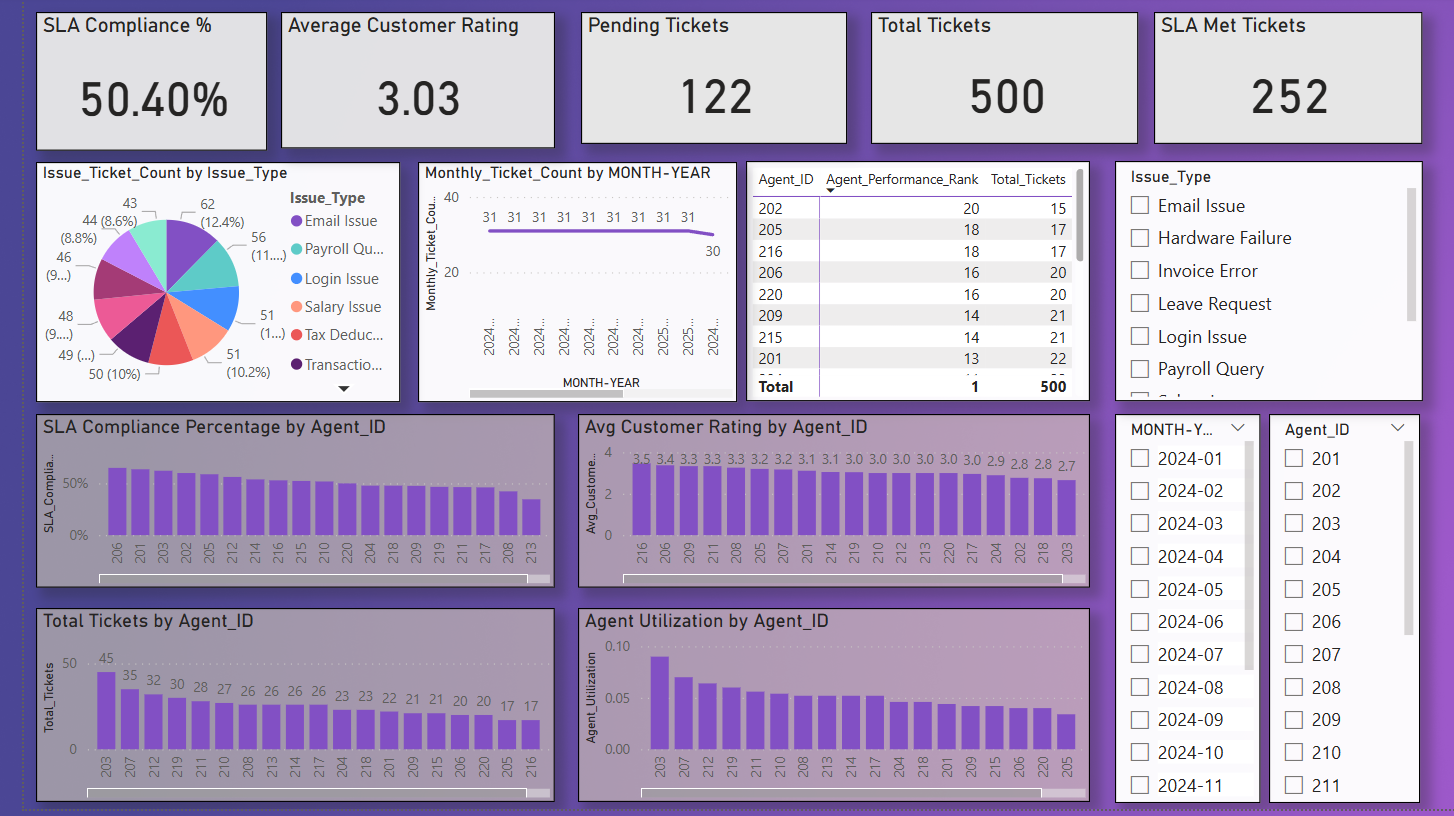

What the dashboard file says about the page in this screenshot:
{"tool":"powerbi","page":{"name":"Page 1","canvas":[1280,720],"ordinal":0},"visuals":[{"type":"card","title":"Total Tickets","fields":{"Values":["ALL MEASURES.Total_Tickets"]},"box":[750.7,13.4,237.4,116.9],"z":0},{"type":"card","title":"SLA Met Tickets","fields":{"Values":["ALL MEASURES.SLA_Met_Tickets"]},"box":[1002.4,13.4,238.3,116.9],"z":1000},{"type":"card","title":"SLA Compliance %","fields":{"Values":["ALL MEASURES.SLA_Compliance_Percentage"]},"box":[10.7,13.4,205.3,123.2],"z":2000},{"type":"pivotTable","fields":{"Rows":["Sheet1.Agent_ID"],"Values":["ALL MEASURES.Agent_Performance_Rank","ALL MEASURES.Total_Tickets"]},"box":[640,145.5,305.3,213.3],"z":3000},{"type":"lineChart","fields":{"Category":["Sheet1.MONTH-YEAR"],"Y":["ALL MEASURES.Monthly_Ticket_Count"]},"box":[349,146.4,283,213.3],"z":4000},{"type":"pieChart","fields":{"Y":["ALL MEASURES.Issue_Ticket_Count"],"Category":["Sheet1.Issue_Type"]},"box":[10.7,146.4,323.1,213.3],"z":5000},{"type":"card","title":"Average Customer Rating","fields":{"Values":["ALL MEASURES.Avg_Customer_Rating"]},"box":[227.6,13.4,242.8,120.5],"z":6000},{"type":"columnChart","title":"Avg Customer Rating by Agent_ID","fields":{"Category":["Sheet1.Agent_ID"],"Y":["ALL MEASURES.Avg_Customer_Rating"]},"box":[490.9,369.5,454.3,154.4],"z":7000},{"type":"columnChart","title":"Total Tickets by Agent_ID","fields":{"Category":["Sheet1.Agent_ID"],"Y":["ALL MEASURES.Total_Tickets"]},"box":[10.7,541.8,459.7,172.3],"z":8000},{"type":"columnChart","title":"SLA Compliance Percentage by Agent_ID","fields":{"Y":["ALL MEASURES.SLA_Compliance_Percentage"],"Category":["Sheet1.Agent_ID"]},"box":[10.7,369.5,459.7,154.4],"z":9000},{"type":"card","title":"Pending Tickets","fields":{"Values":["ALL MEASURES.Pending_Tickets"]},"box":[493.6,13.4,235.6,116.9],"z":10000},{"type":"columnChart","title":"Agent Utilization by Agent_ID","fields":{"Y":["ALL MEASURES.Agent_Utilization"],"Category":["Sheet1.Agent_ID"]},"box":[490.9,541.8,454.3,172.3],"z":11000},{"type":"slicer","fields":{"Values":["Sheet1.MONTH-YEAR"]},"box":[967.6,369.5,128.5,344.5],"z":12000},{"type":"slicer","fields":{"Values":["Sheet1.Agent_ID"]},"box":[1104.2,369.5,133.9,344.5],"z":13000},{"type":"slicer","fields":{"Values":["Sheet1.Issue_Type"]},"box":[967.6,145.5,273.1,213.3],"z":14000}]}

Visuals, with their boxes in screenshot pixels (x1, y1, x2, y2), scaled from the page's 1280x720 canvas onto the 1454x816 screenshot:
"Total Tickets" card: box=[853, 15, 1122, 148]
"SLA Met Tickets" card: box=[1139, 15, 1409, 148]
"SLA Compliance %" card: box=[12, 15, 245, 155]
pivotTable - Sheet1.Agent_ID x ALL MEASURES.Agent_Performance_Rank: box=[727, 165, 1074, 407]
lineChart - Sheet1.MONTH-YEAR x ALL MEASURES.Monthly_Ticket_Count: box=[396, 166, 718, 408]
pieChart - ALL MEASURES.Issue_Ticket_Count x Sheet1.Issue_Type: box=[12, 166, 379, 408]
"Average Customer Rating" card: box=[259, 15, 534, 152]
"Avg Customer Rating by Agent_ID" columnChart: box=[558, 419, 1074, 594]
"Total Tickets by Agent_ID" columnChart: box=[12, 614, 534, 809]
"SLA Compliance Percentage by Agent_ID" columnChart: box=[12, 419, 534, 594]
"Pending Tickets" card: box=[561, 15, 828, 148]
"Agent Utilization by Agent_ID" columnChart: box=[558, 614, 1074, 809]
slicer - Sheet1.MONTH-YEAR: box=[1099, 419, 1245, 809]
slicer - Sheet1.Agent_ID: box=[1254, 419, 1406, 809]
slicer - Sheet1.Issue_Type: box=[1099, 165, 1409, 407]
